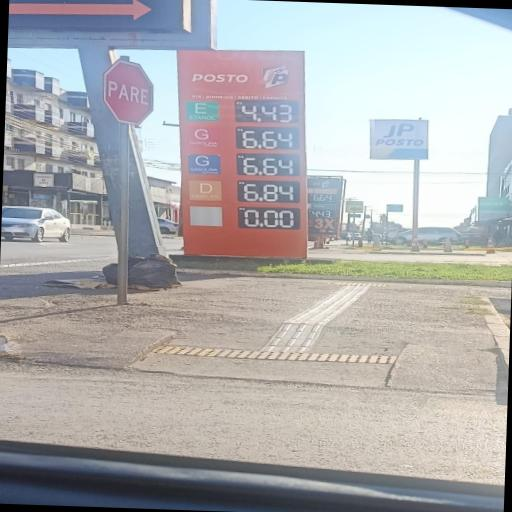ETANOL: (187, 100, 220, 122)
GASOLINA AD: (187, 152, 223, 177)
GASOLINA C: (185, 127, 223, 150)
S10: (187, 179, 225, 201)
placa: (183, 97, 303, 205)
preco: (233, 180, 298, 202), (237, 155, 299, 177), (237, 102, 294, 124), (238, 130, 297, 149)
